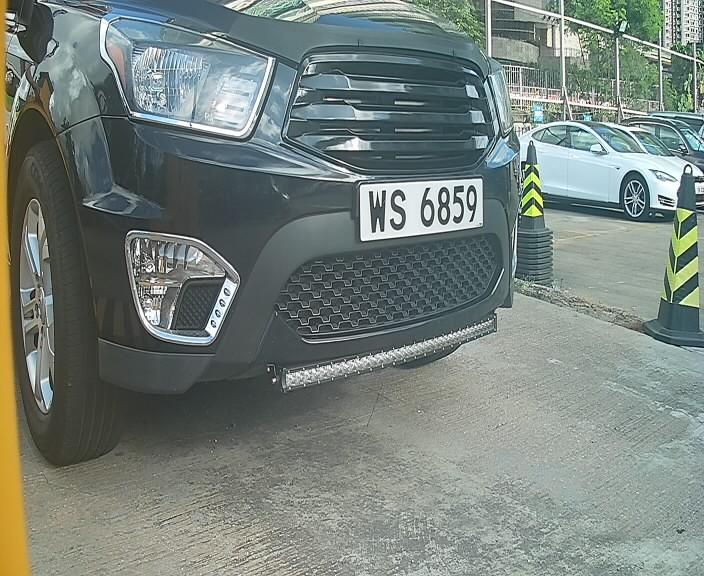Car: (32, 26, 585, 422)
License Plate: (346, 163, 494, 255)
